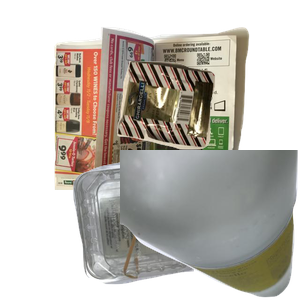glass: (120, 150, 300, 300)
paper: (51, 24, 291, 204)
plastic: (71, 154, 300, 300)
trash: (115, 58, 300, 200)
